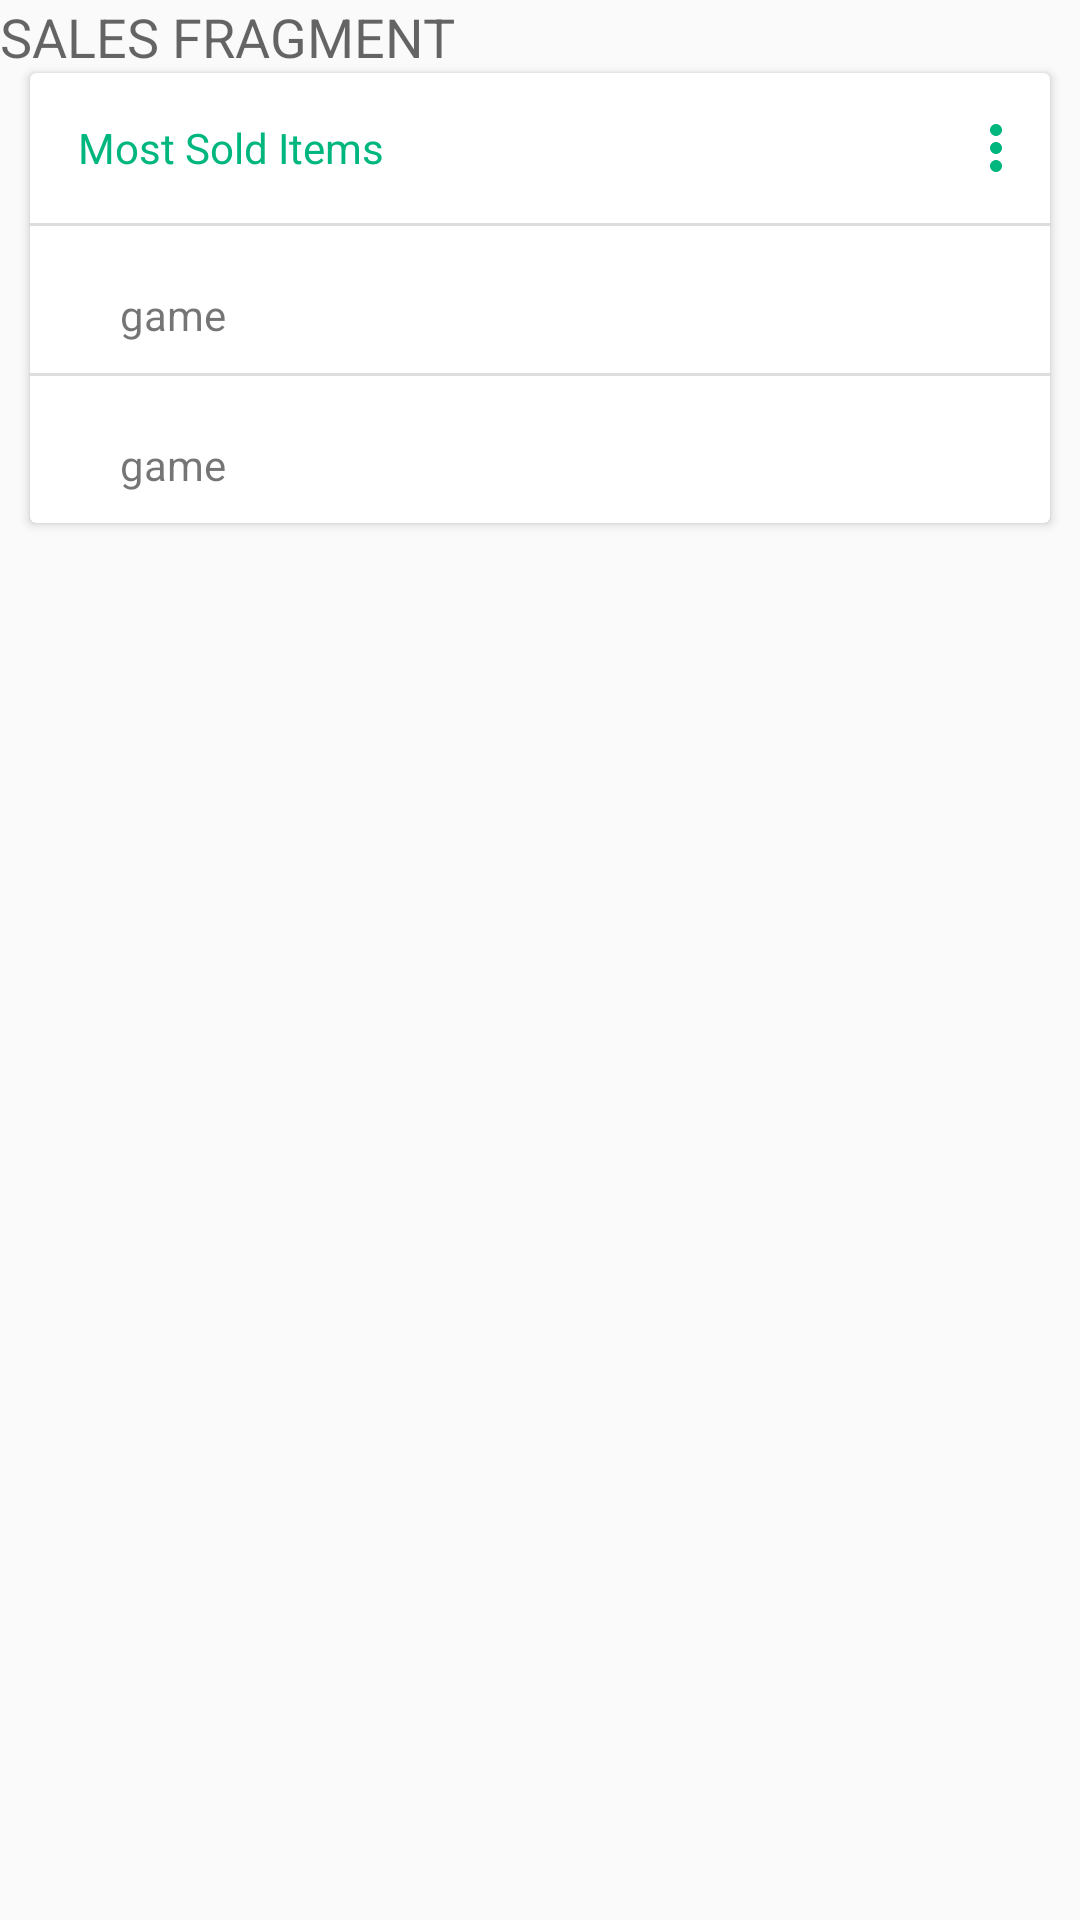

Named icons in this screenshot (1080*1920) and their bounding boxes, (x1, y1, x2, y2):
Menu: (990, 124, 1002, 172)
